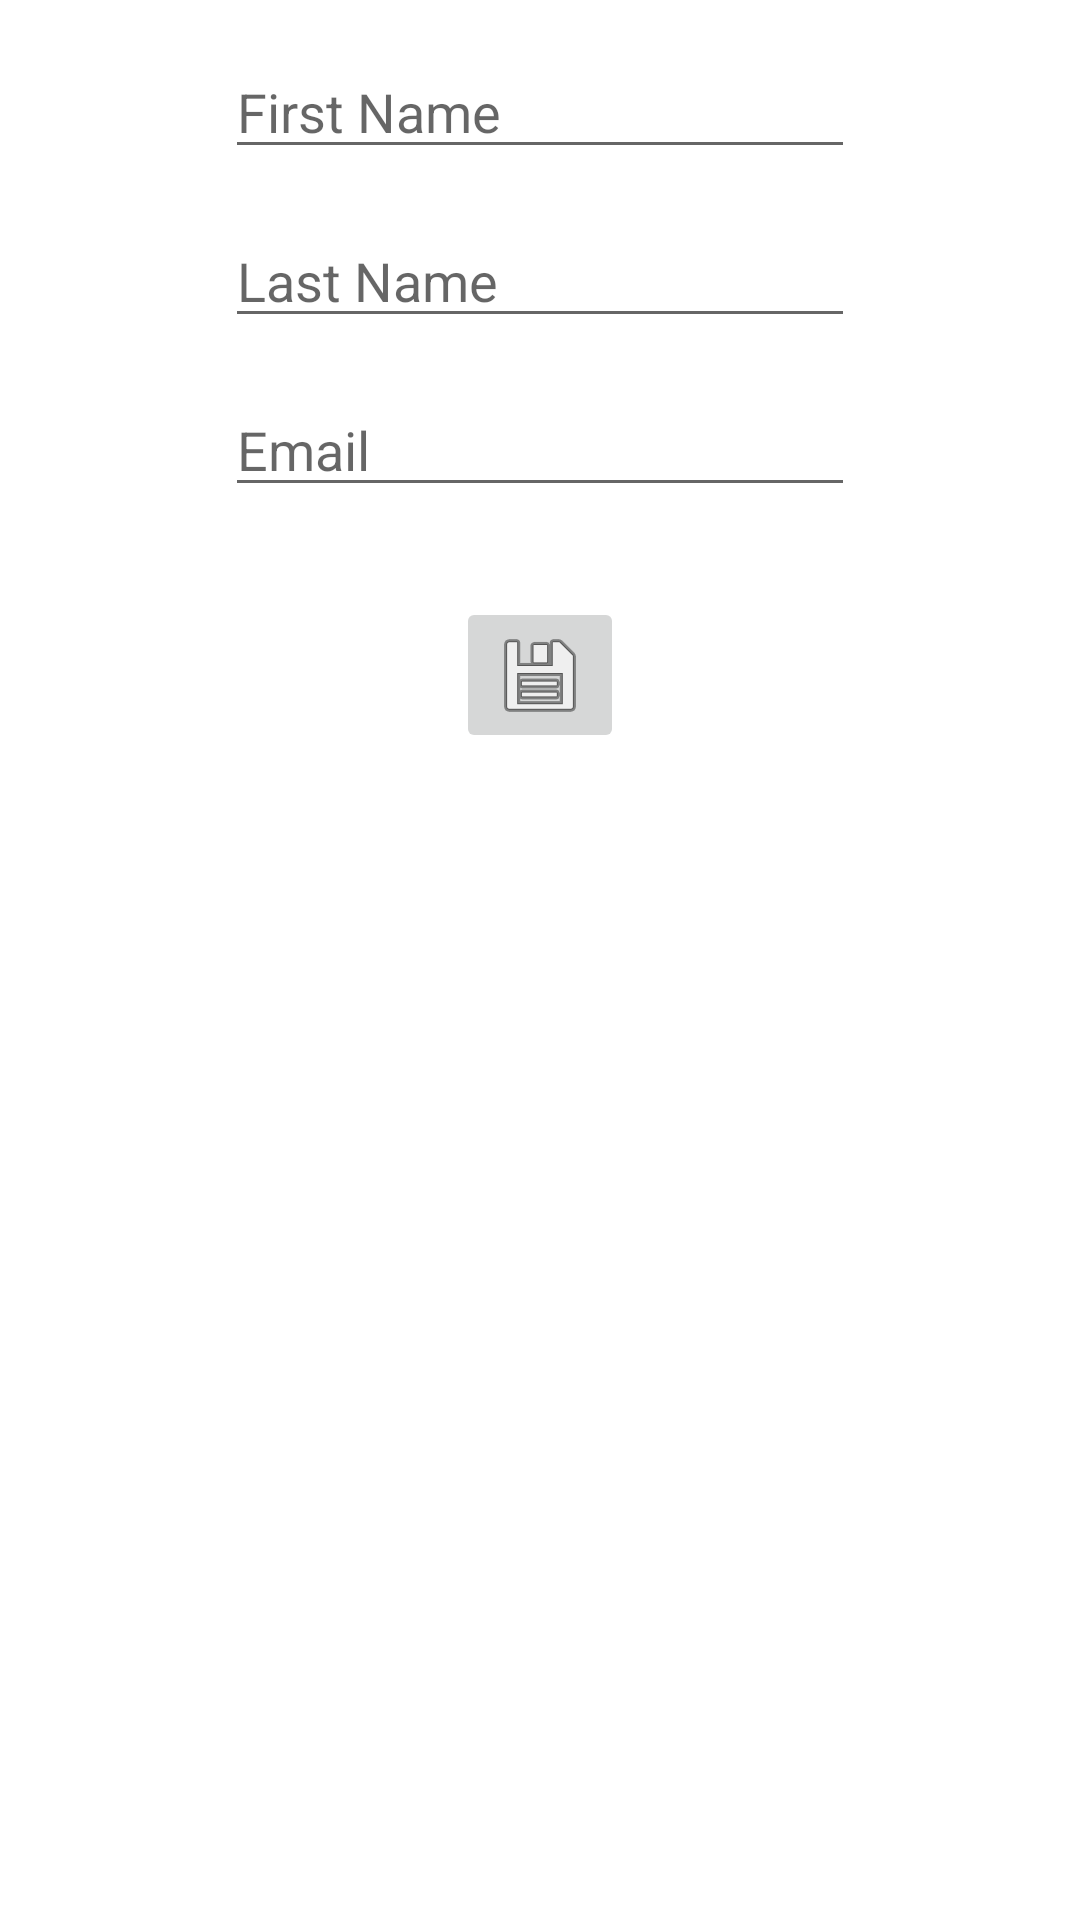

Point at icon controls on the screen. Image size 1080×1920, points as point (x, y).
save: point (540, 675)
